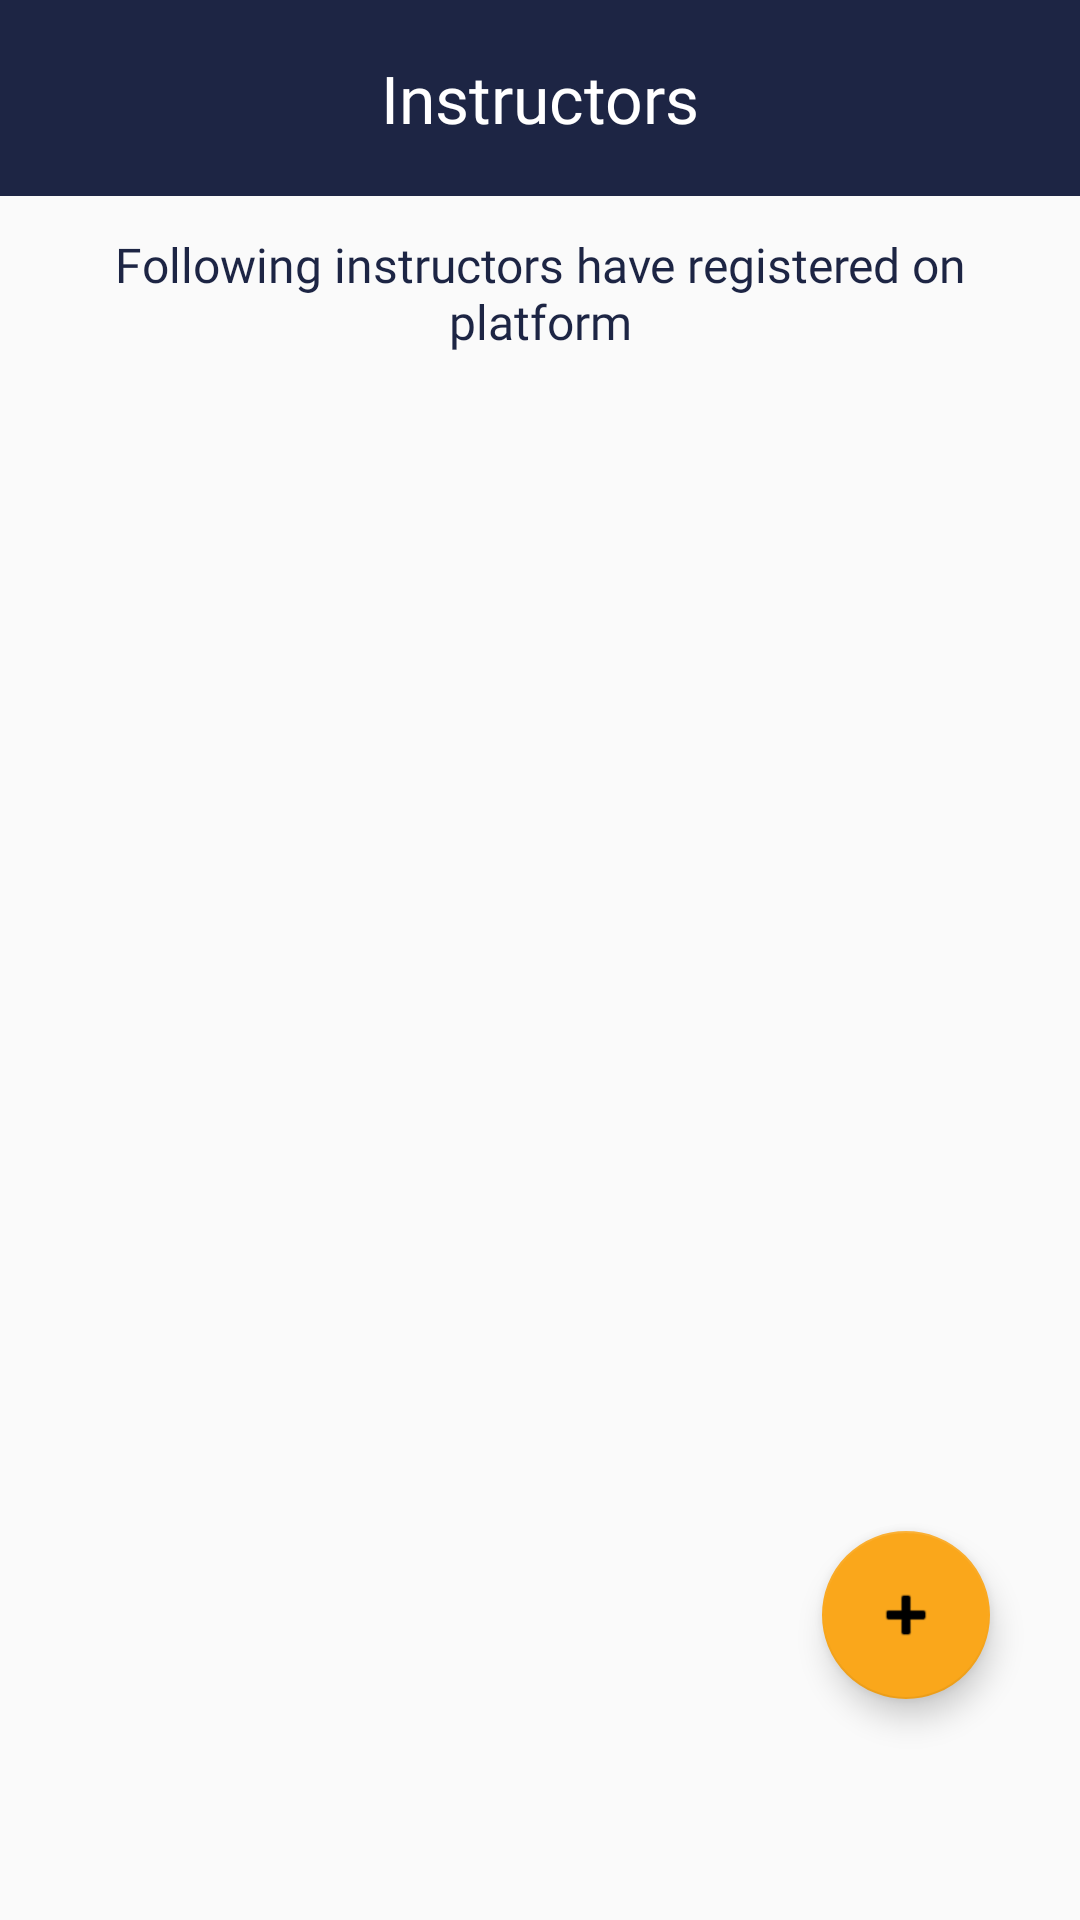

Icon bounding boxes for this 1080w x 1920h phone screenshot, format (x1, y1, x2, y2):
add: (822, 1531, 990, 1699)
